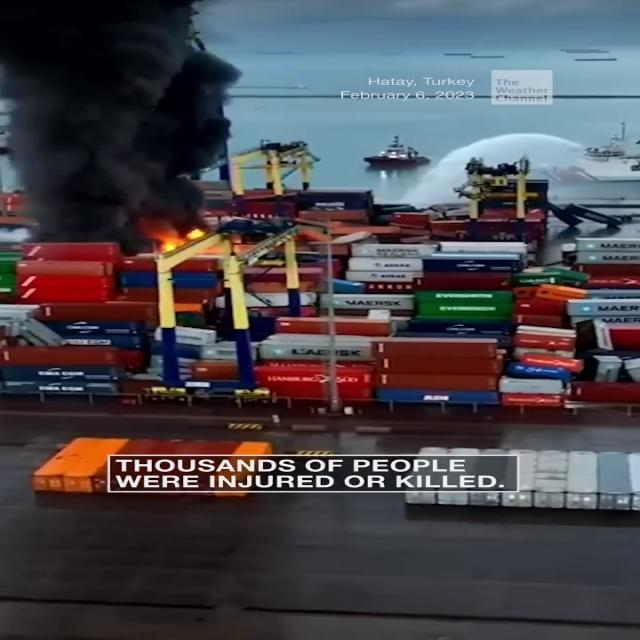Fire: (152, 223, 208, 256)
Smoke: (0, 0, 246, 232)
